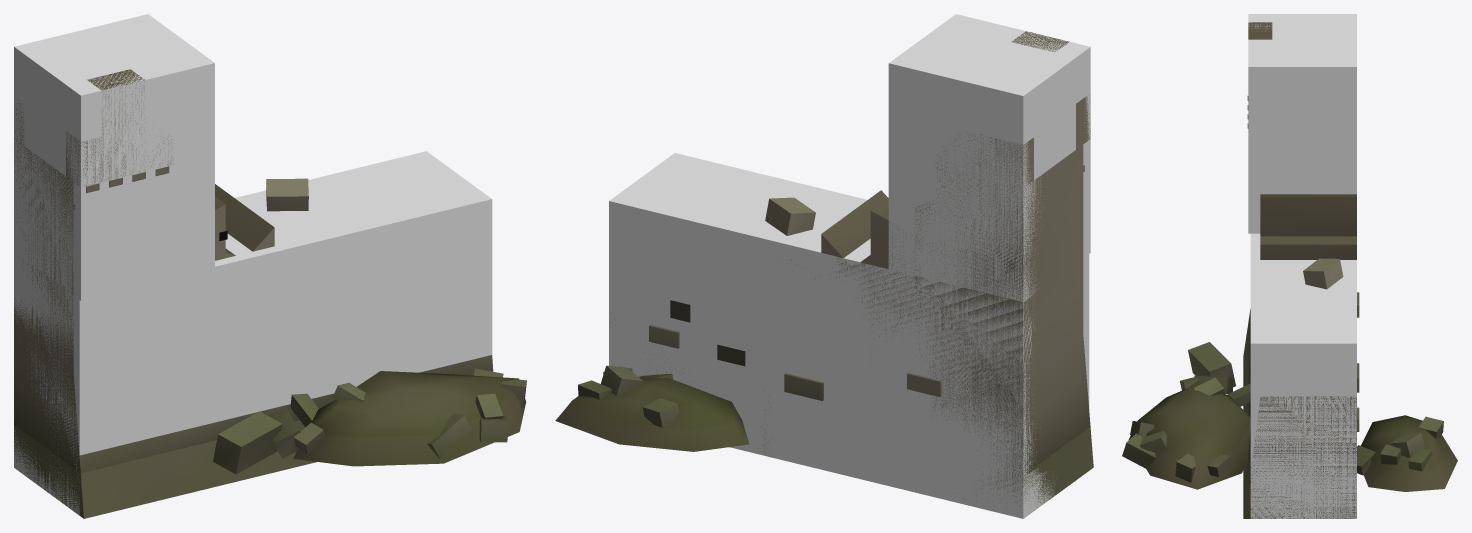
Rendered from castle_wall_ruin_a.glb.
3 renders of one model, left to right at view 1: azimuth 30°, elevation 25°; view 2: azimuth 150°, elevation 25°; view 3: azimuth 270°, elevation 25°, orthographic. The views are drawn at different scales.
Visible parts, largest first — view 1: COL_wall, castle_wall_ruin_a, COL_wall_high; view 2: COL_wall, castle_wall_ruin_a, COL_wall_high; view 3: castle_wall_ruin_a, COL_wall, COL_wall_high.
Boxes of the visible parts, x1=… form: COL_wall: x1=14, y1=151, x2=492, y2=515; castle_wall_ruin_a: x1=14, y1=69, x2=526, y2=518; COL_wall_high: x1=14, y1=14, x2=214, y2=300; COL_wall: x1=609, y1=153, x2=1089, y2=518; castle_wall_ruin_a: x1=555, y1=31, x2=1093, y2=512; COL_wall_high: x1=888, y1=14, x2=1090, y2=301; castle_wall_ruin_a: x1=1122, y1=22, x2=1457, y2=518; COL_wall: x1=1250, y1=233, x2=1356, y2=518; COL_wall_high: x1=1248, y1=14, x2=1356, y2=233.
Bounding box in the file's own units: 8.14 × 7.8 × 6.95.
